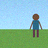person: (30, 14, 42, 37)
